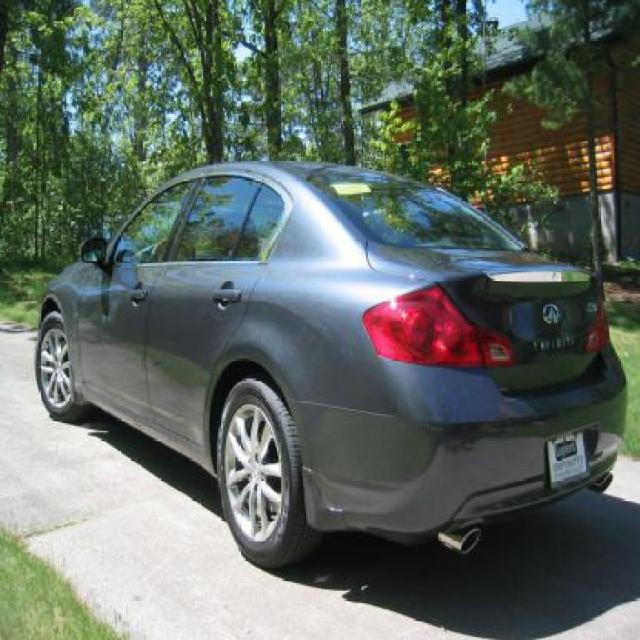License-Plates: (549, 433, 587, 482)
